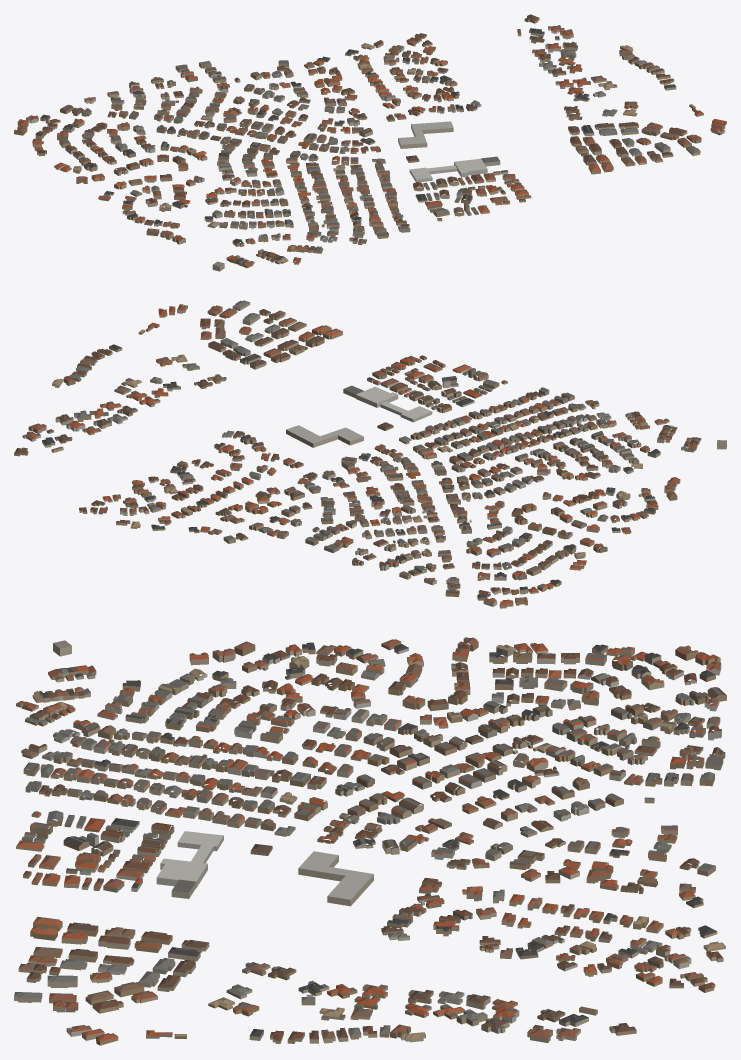
3 renders of one model, top to bottom at view 1: azimuth 30°, elevation 25°; view 2: azimuth 150°, elevation 25°; view 3: azimuth 270°, elevation 25°, orthographic. The views are drawn at different scales.
Visible parts, largest first — view 1: buildings_r1_c7_lod1; view 2: buildings_r1_c7_lod1; view 3: buildings_r1_c7_lod1.
Boxes of the visible parts, box(x1,y1,x2,y2) form: buildings_r1_c7_lod1: box(14, 14, 726, 271); buildings_r1_c7_lod1: box(14, 300, 726, 608); buildings_r1_c7_lod1: box(14, 637, 726, 1045).
Size of the model in its own units: 1145 by 60.95 by 812.
